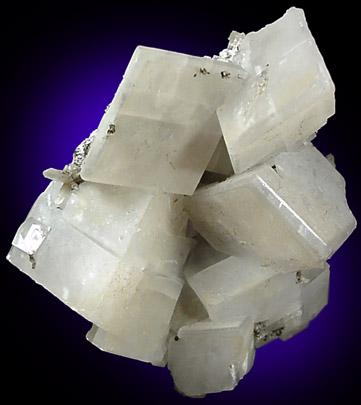calcite: (7, 8, 357, 398)
